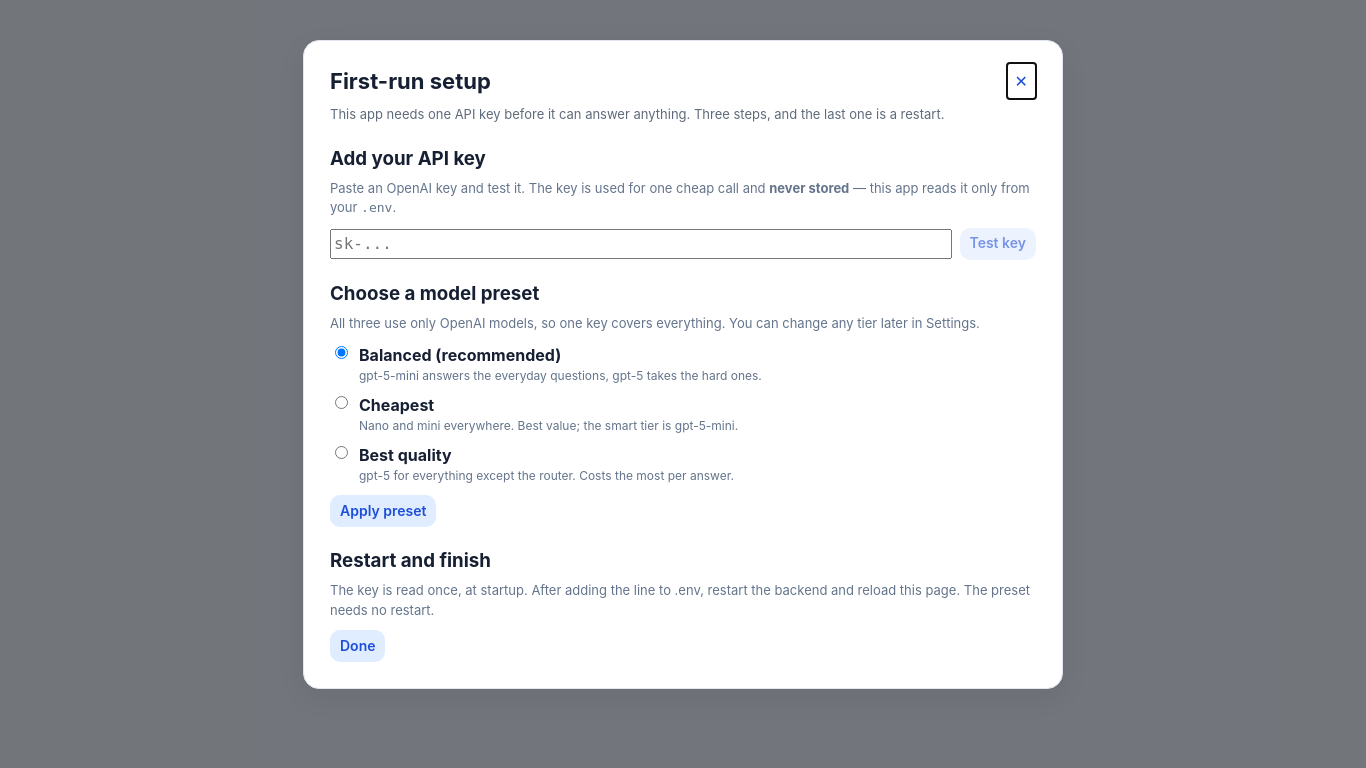
it: SetupWizard › explains a 401 as needing sign-in rather than as a bad key
In the password field named "OpenAI API key": (641, 244) [330, 229, 952, 259], type "sk-x"
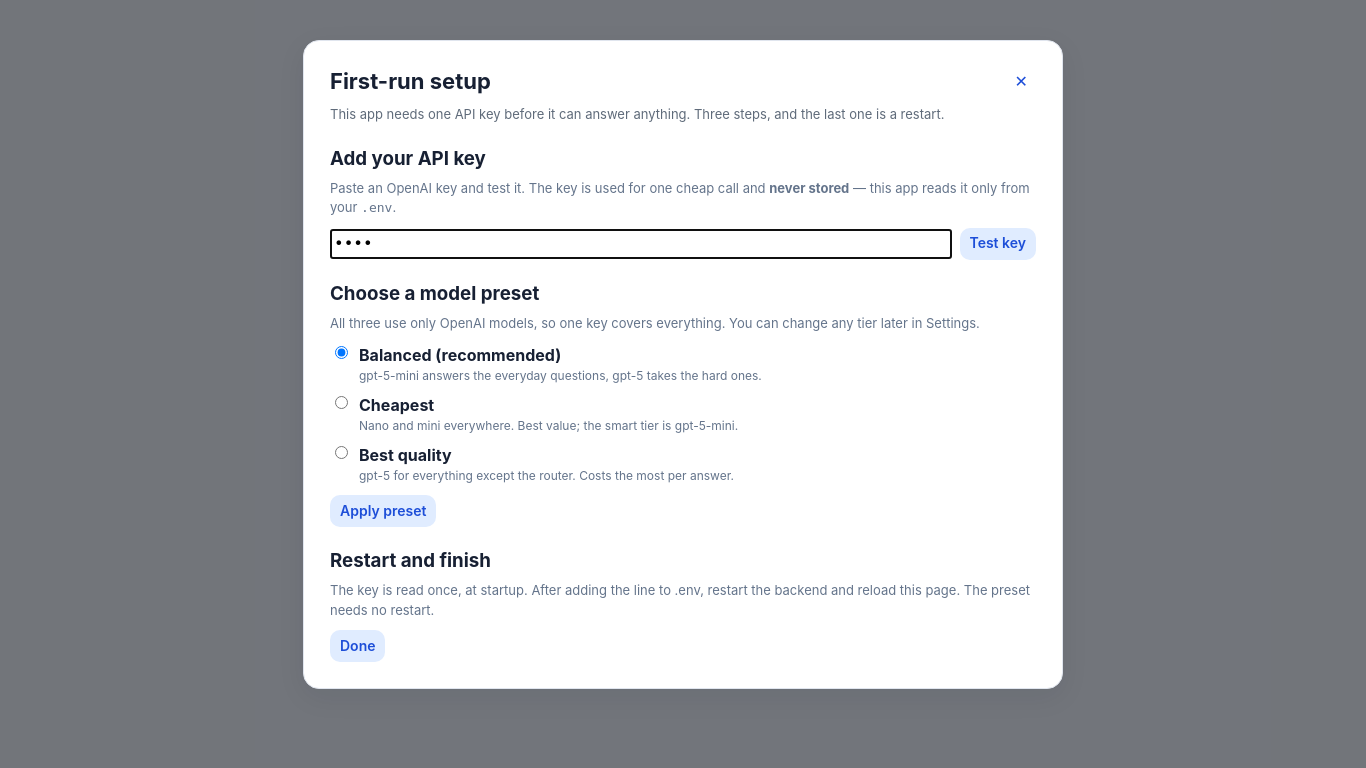
Click the button with aria-label "Test API key": (998, 244) [960, 228, 1036, 260]
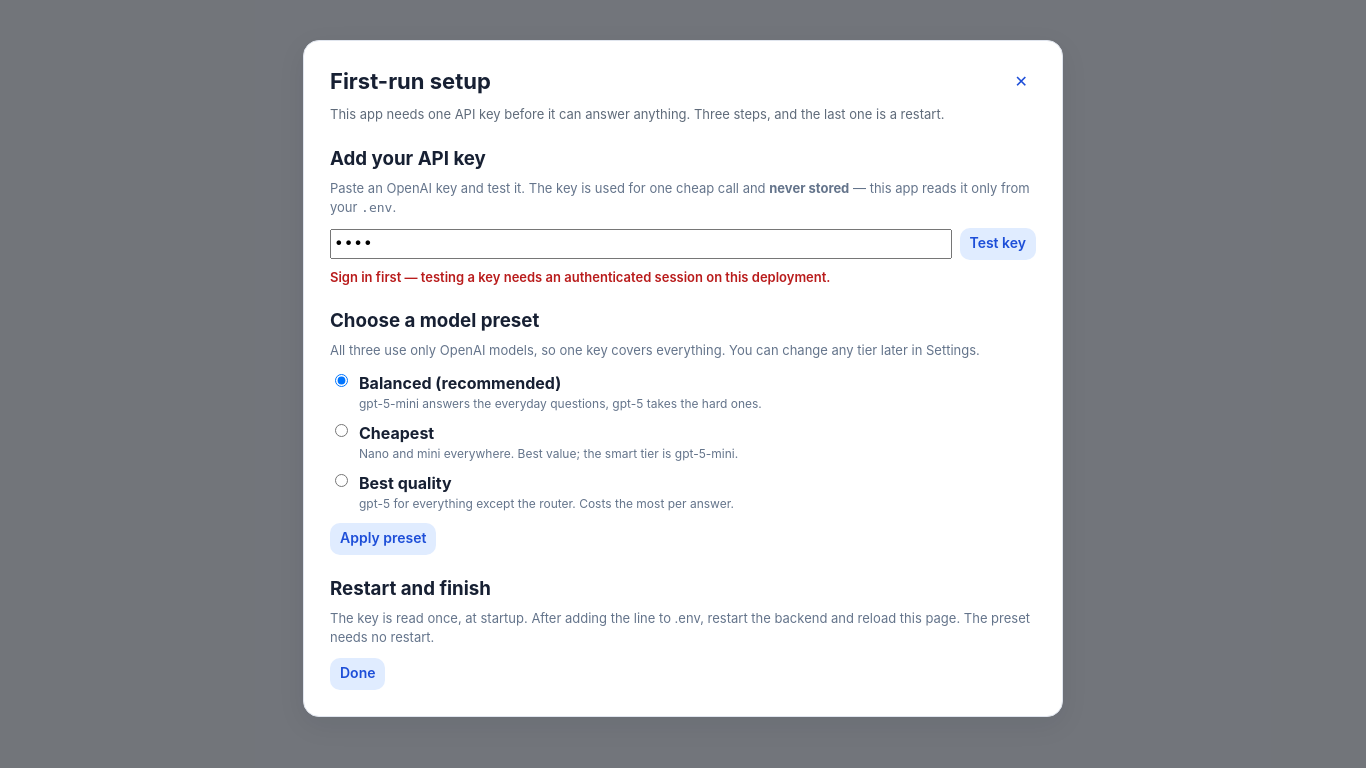
Now the text "Sign in first" is shown, box [330, 269, 830, 285]
